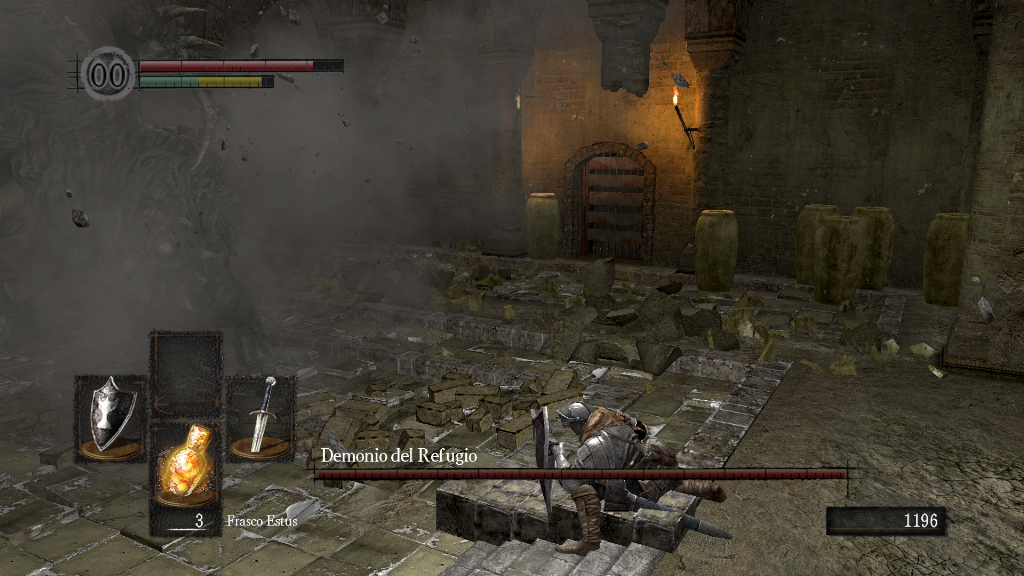bossHP: (314, 469, 847, 479)
health: (138, 58, 343, 71)
humanity: (80, 45, 136, 102)
player: (528, 402, 737, 557)
souls: (825, 506, 945, 536)
stamina: (138, 74, 274, 88)
